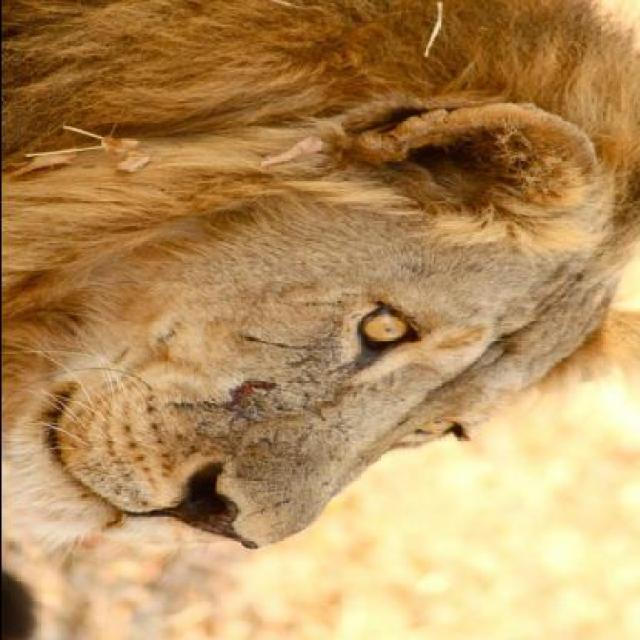Lion: (1, 5, 632, 569)
